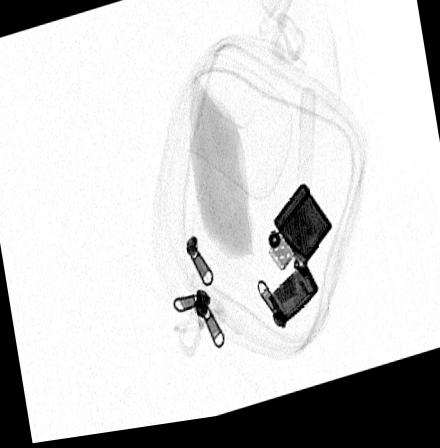Lighter: (267, 191, 333, 332)
